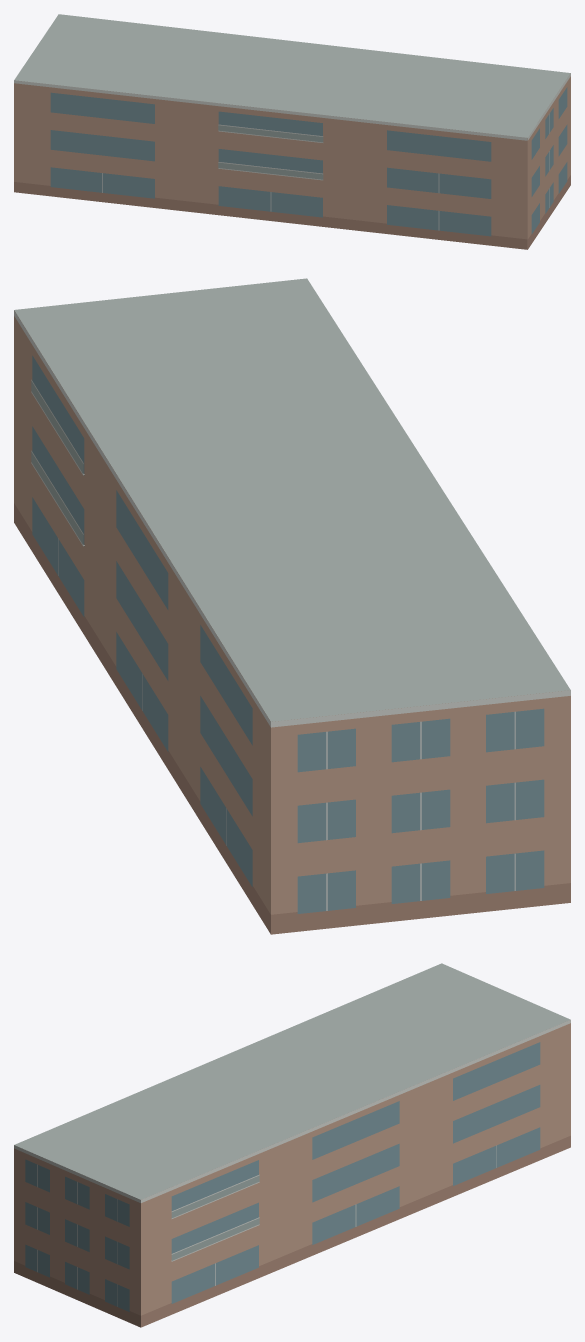
File: survey-upis-32597985.glb
3 views of the same model, one above another, from view 1: azimuth 30°, elevation 25°; view 2: azimuth 150°, elevation 25°; view 3: azimuth 270°, elevation 25° (orthographic). The views are drawn at different scales.
Parts seen in each view (by area): view 1: survey-upis-32597985.tmp; view 2: survey-upis-32597985.tmp; view 3: survey-upis-32597985.tmp.
Part boxes in pixels (x1,y1,x2,y2): survey-upis-32597985.tmp: (14, 14, 570, 249); survey-upis-32597985.tmp: (14, 278, 570, 934); survey-upis-32597985.tmp: (14, 963, 570, 1327).
Bounding box in the file's own units: 36.35 × 9.15 × 36.16.
